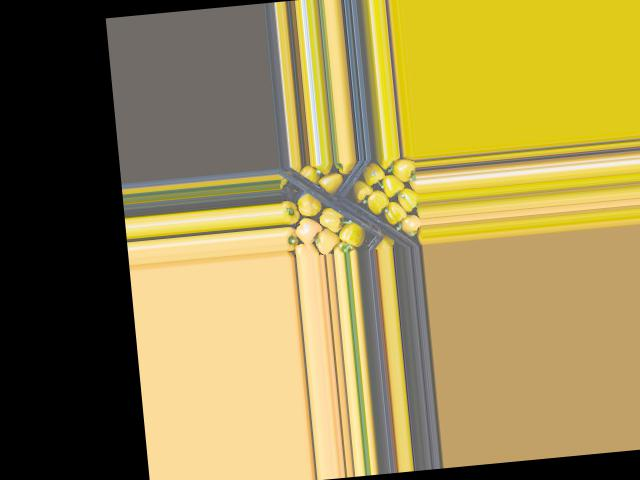bell_pepper: (386, 154, 415, 180)
